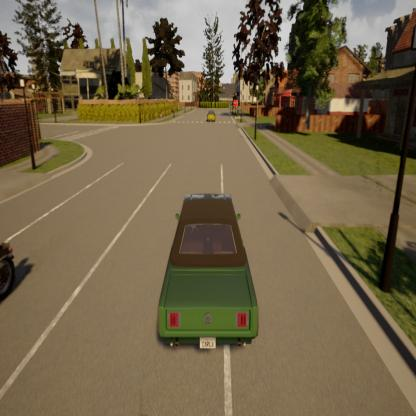Cars: (158, 194, 259, 352), (0, 240, 15, 298), (205, 108, 217, 124), (232, 97, 242, 112)
